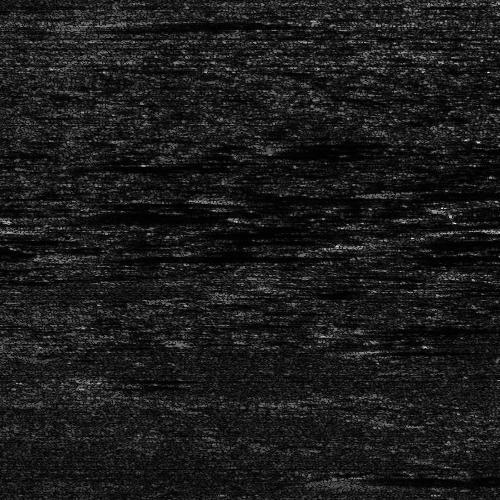object: (340, 323, 423, 336), (9, 250, 124, 259), (296, 476, 379, 487), (58, 19, 141, 30), (438, 222, 500, 235), (176, 193, 239, 202), (0, 214, 75, 221), (345, 189, 418, 196), (3, 164, 76, 169), (328, 253, 391, 258), (333, 346, 396, 351)
shadow: (99, 19, 265, 30), (208, 193, 410, 202), (67, 250, 248, 259), (382, 323, 500, 336), (337, 476, 451, 487), (28, 214, 169, 221), (382, 189, 500, 196), (40, 164, 183, 169), (365, 346, 449, 351), (360, 253, 437, 258)
